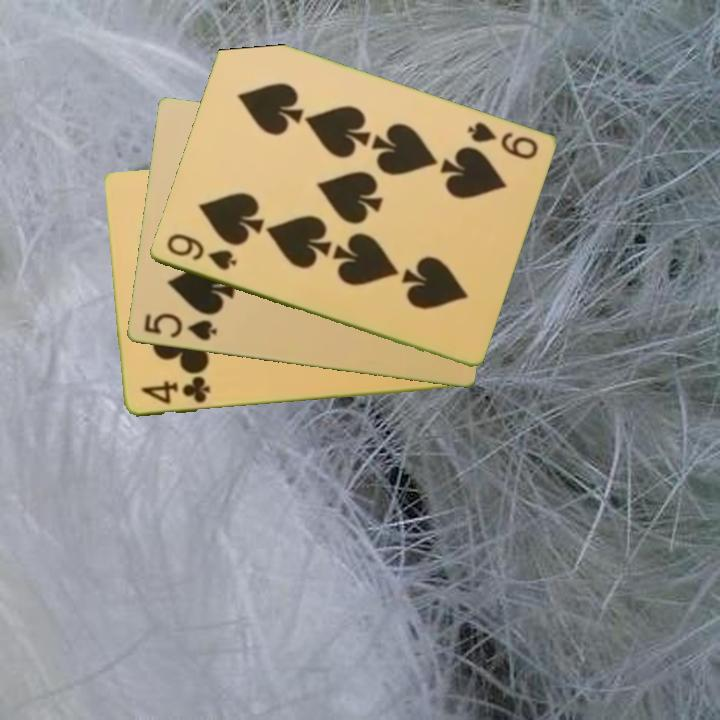4c: (137, 374, 213, 408)
5s: (140, 310, 220, 344)
9s: (463, 118, 541, 163), (162, 230, 240, 274)
